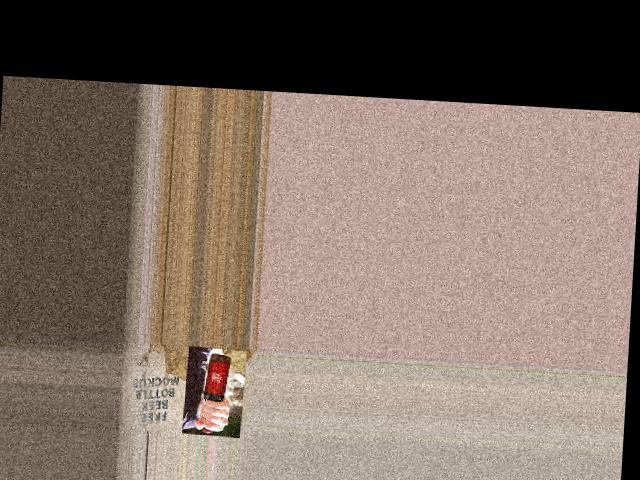beer: (202, 352, 230, 433)
